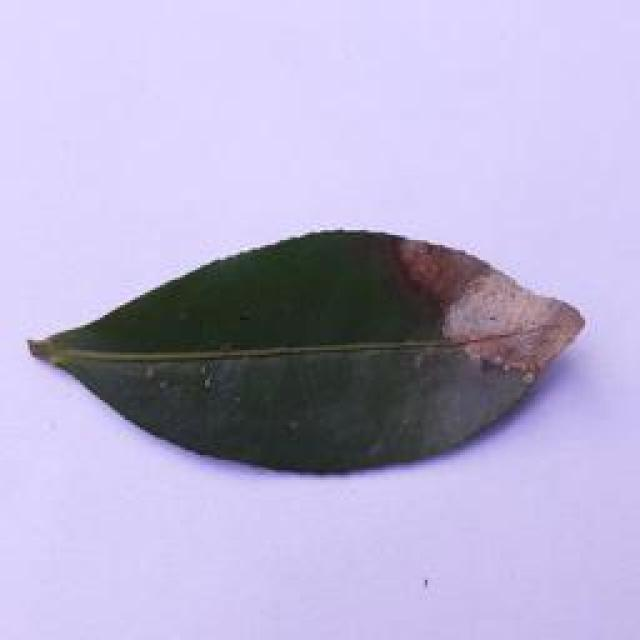Gray Blight: (23, 225, 590, 476)
